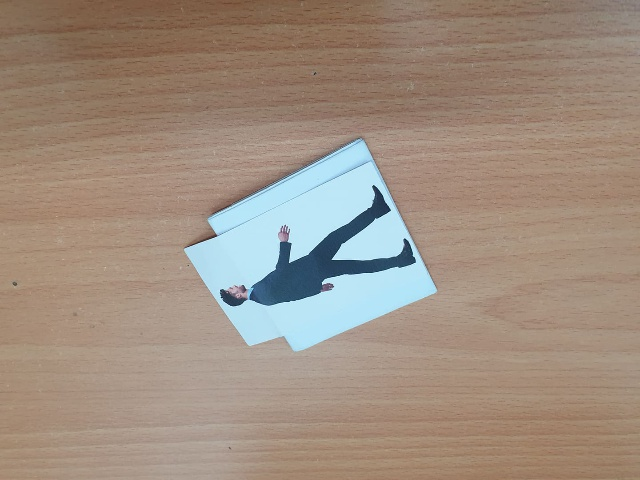Person: (219, 186, 420, 313)
